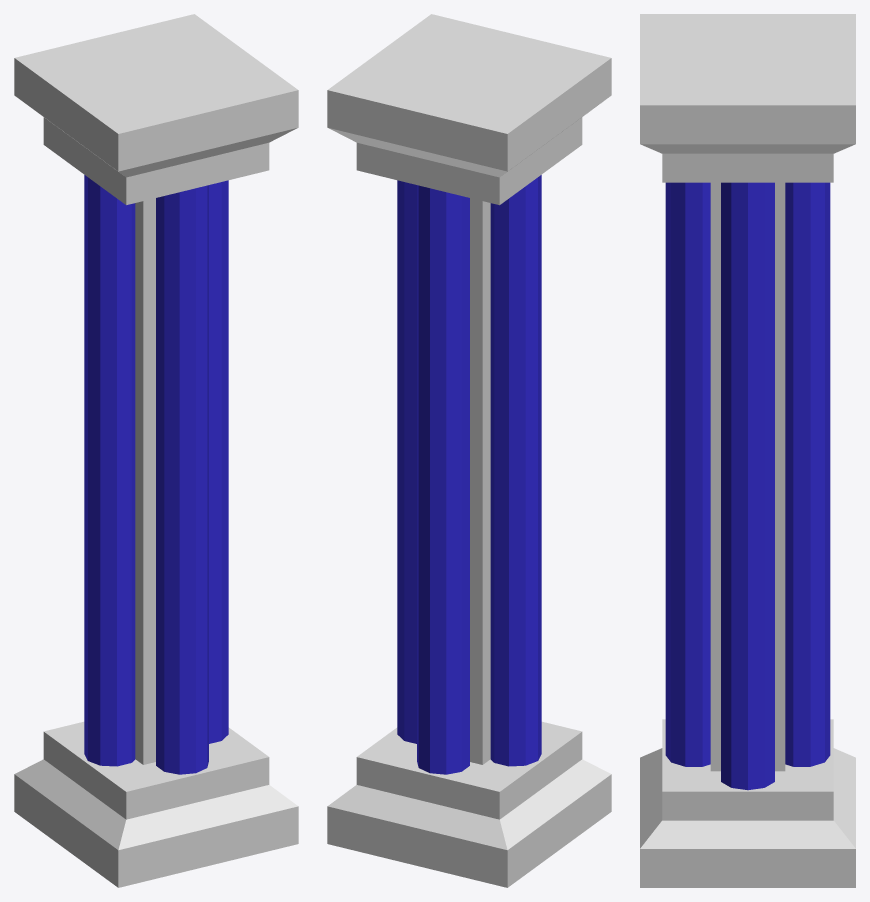
Rendered from Pillar_whole.fbx.
3 renders of one model, left to right at view 1: azimuth 30°, elevation 25°; view 2: azimuth 150°, elevation 25°; view 3: azimuth 270°, elevation 25°, orthographic. The views are drawn at different scales.
Parts seen in each view (by area): view 1: pillar.001; view 2: pillar.001; view 3: pillar.001.
Boxes of the visible parts, x1,y1,x2,y2 form: pillar.001: (14,14,298,887); pillar.001: (327,14,611,887); pillar.001: (640,14,855,887).
Size of the model in its own units: 100 by 400 by 100.
